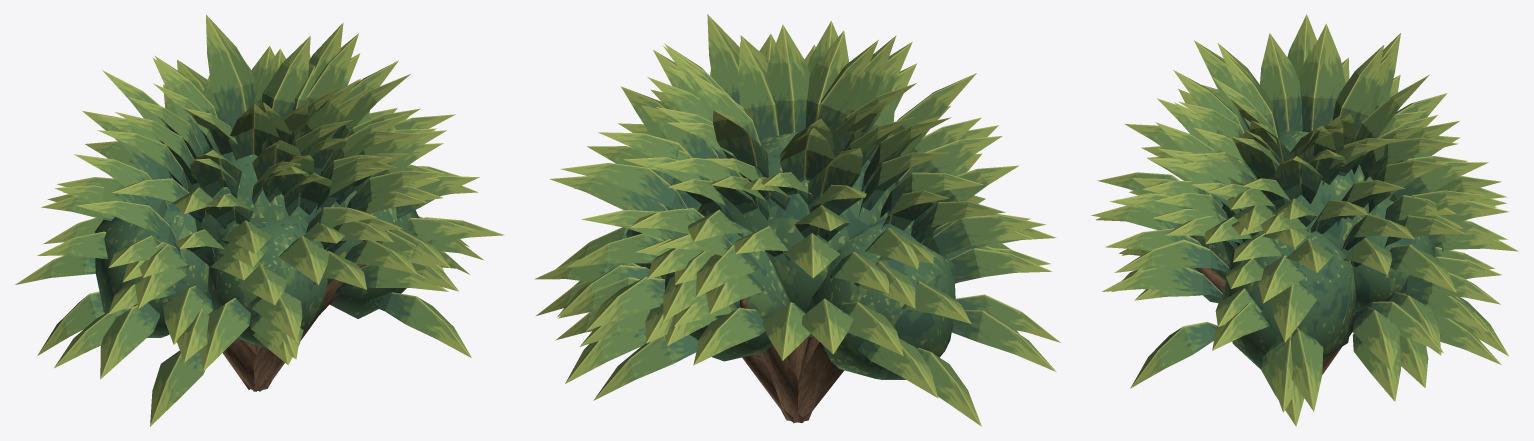
The model's file is roadside_bush.glb.
3 renders of one model, left to right at view 1: azimuth 30°, elevation 25°; view 2: azimuth 150°, elevation 25°; view 3: azimuth 270°, elevation 25°, orthographic. The views are drawn at different scales.
Visible parts, largest first — view 1: roadside_bush_leaf_cards, roadside_bush_leaf_masses, roadside_bush_woody_stems; view 2: roadside_bush_leaf_cards, roadside_bush_leaf_masses, roadside_bush_woody_stems; view 3: roadside_bush_leaf_cards, roadside_bush_leaf_masses, roadside_bush_woody_stems.
Boxes of the visible parts, x1=… form: roadside_bush_leaf_cards: x1=15, y1=14, x2=504, y2=426; roadside_bush_leaf_masses: x1=95, y1=148, x2=418, y2=347; roadside_bush_woody_stems: x1=223, y1=264, x2=366, y2=391; roadside_bush_leaf_cards: x1=534, y1=14, x2=1060, y2=426; roadside_bush_leaf_masses: x1=626, y1=132, x2=955, y2=379; roadside_bush_woody_stems: x1=740, y1=298, x2=844, y2=423; roadside_bush_leaf_cards: x1=1091, y1=14, x2=1518, y2=426; roadside_bush_leaf_masses: x1=1190, y1=129, x2=1435, y2=369; roadside_bush_woody_stems: x1=1196, y1=268, x2=1357, y2=374.
Bounding box in the file's own units: 1.4 × 1 × 1.2.
Materials: 3 (3 with a texture image).
